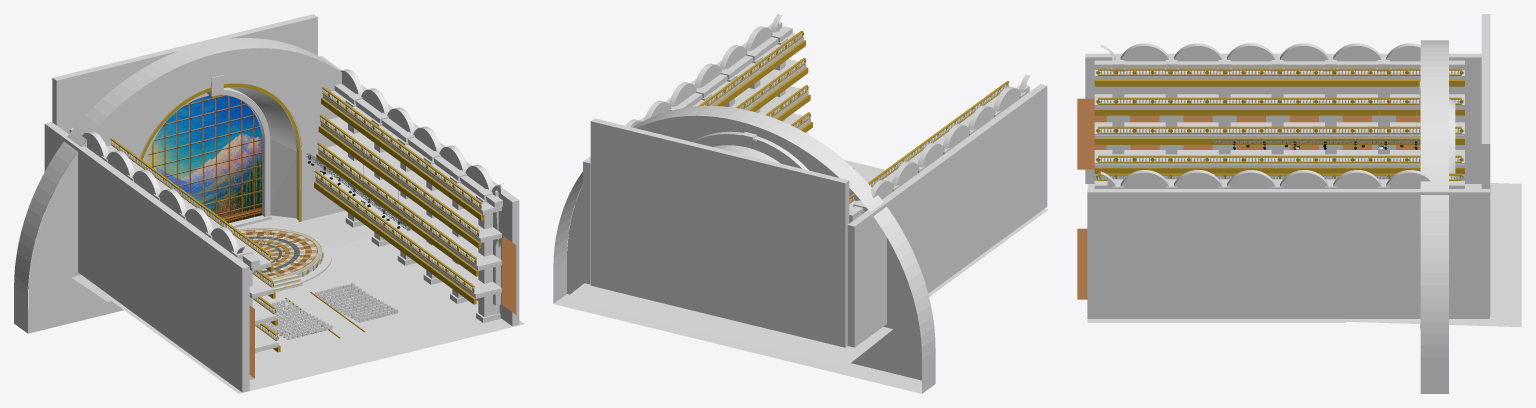
File: bellas_artes.fbx
3 views of the same model, side by side, from view 1: azimuth 30°, elevation 25°; view 2: azimuth 150°, elevation 25°; view 3: azimuth 270°, elevation 25° (orthographic). The views are drawn at different scales.
Parts seen in each view (by area): view 1: Marmol; view 2: Marmol; view 3: Marmol.
Boxes of the visible parts, x1=… form: Marmol: x1=14, y1=14, x2=524, y2=393; Marmol: x1=553, y1=14, x2=1047, y2=393; Marmol: x1=1077, y1=14, x2=1521, y2=393.
Bounding box in the file's own units: 6373 × 3767 × 6362.
18 materials, 2 textured.
